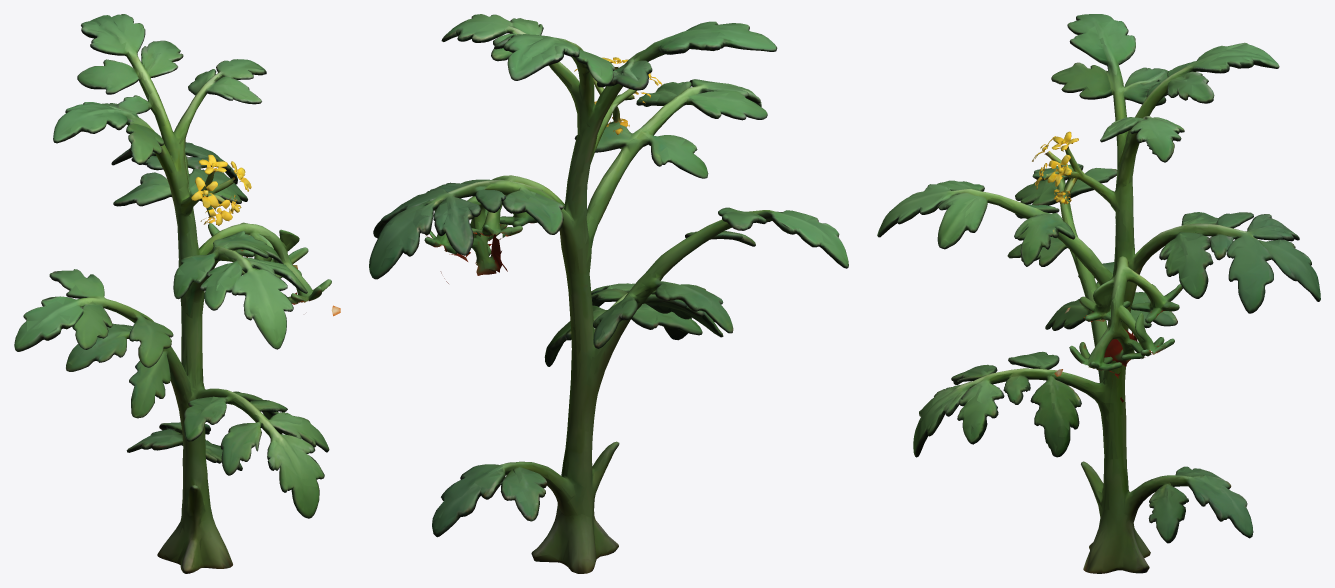
Rendered from plant_tomato_clay_flowering.glb.
3 views of the same model, side by side, from view 1: azimuth 30°, elevation 25°; view 2: azimuth 150°, elevation 25°; view 3: azimuth 270°, elevation 25° (orthographic). The views are drawn at different scales.
Parts seen in each view (by area): view 1: tripo_node_7225cf2a-3e7f-467a-aac7-eda7ac97cce7; view 2: tripo_node_7225cf2a-3e7f-467a-aac7-eda7ac97cce7; view 3: tripo_node_7225cf2a-3e7f-467a-aac7-eda7ac97cce7.
Boxes of the visible parts, left/top/right/bottom form: tripo_node_7225cf2a-3e7f-467a-aac7-eda7ac97cce7: left=14, top=14, right=340, bottom=573; tripo_node_7225cf2a-3e7f-467a-aac7-eda7ac97cce7: left=369, top=14, right=848, bottom=573; tripo_node_7225cf2a-3e7f-467a-aac7-eda7ac97cce7: left=877, top=14, right=1320, bottom=573.
Size of the model in its own units: 0.6874 by 0.9805 by 0.7894.
Materials: 1 (1 with a texture image).
